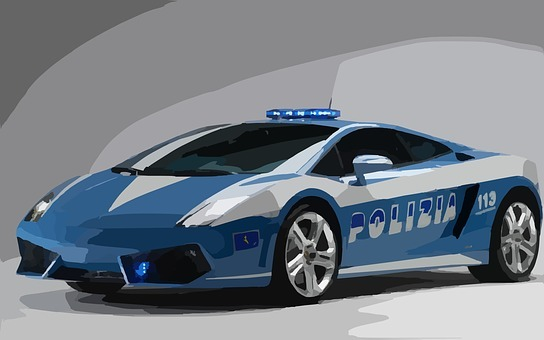car: (9, 98, 538, 314)
